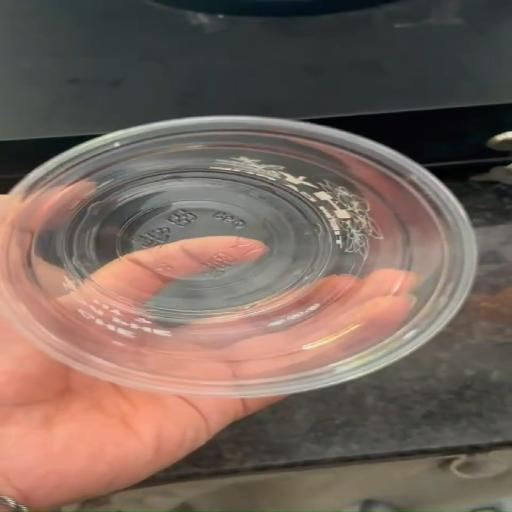ly_nhua: (0, 116, 476, 396)
